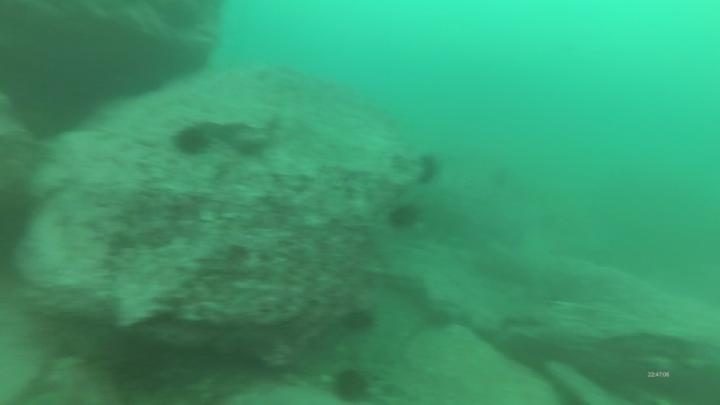echinus: (327, 366, 374, 405), (170, 123, 215, 161), (336, 305, 380, 335), (386, 202, 423, 232), (414, 153, 440, 188)
